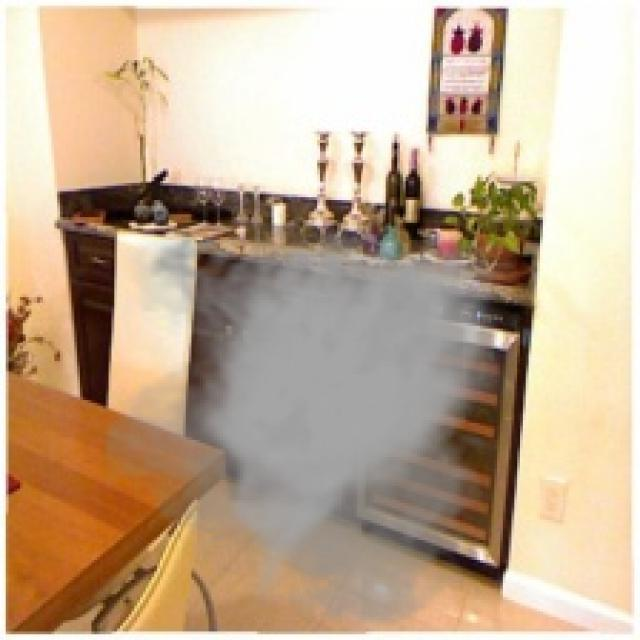Smoke: (102, 219, 518, 632)
